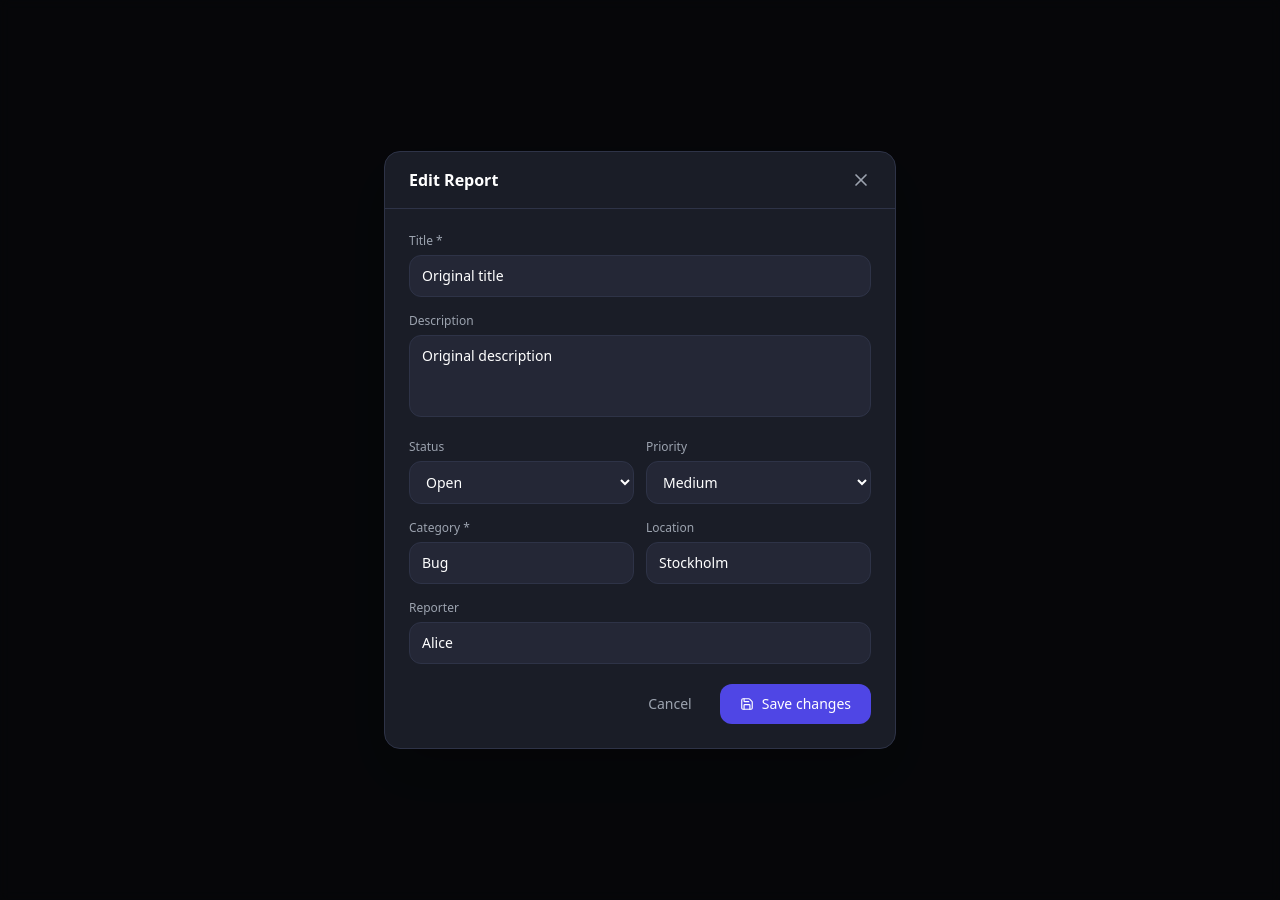
EditReportModal › shows error when save fails
What coordinates should you click on to do the following:
click the button "Save changes"
I would click on:
 (795, 704)
Its box is left=720, top=684, right=871, bottom=724.
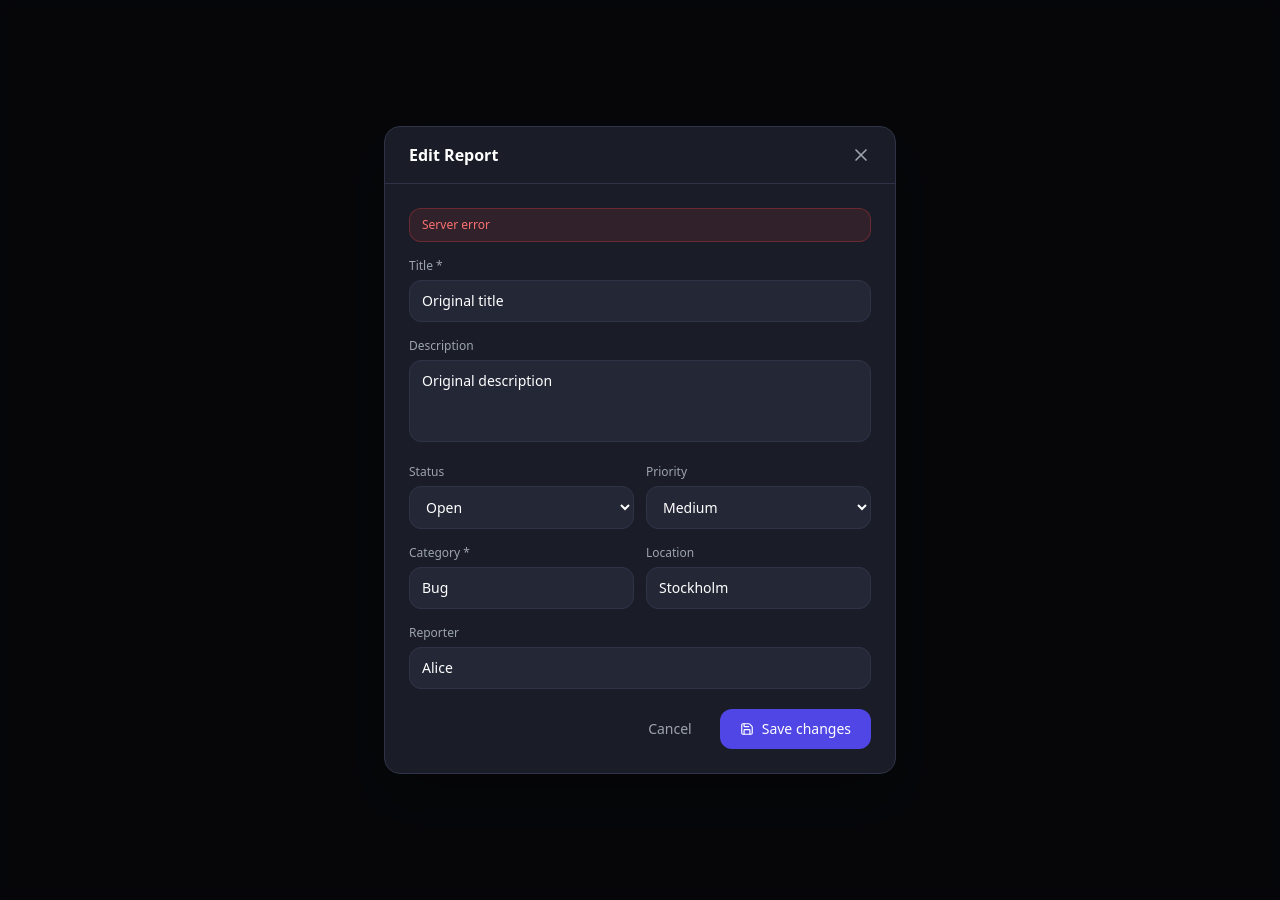
Expected: the text "Server error" is shown, left=409, top=208, right=871, bottom=242
